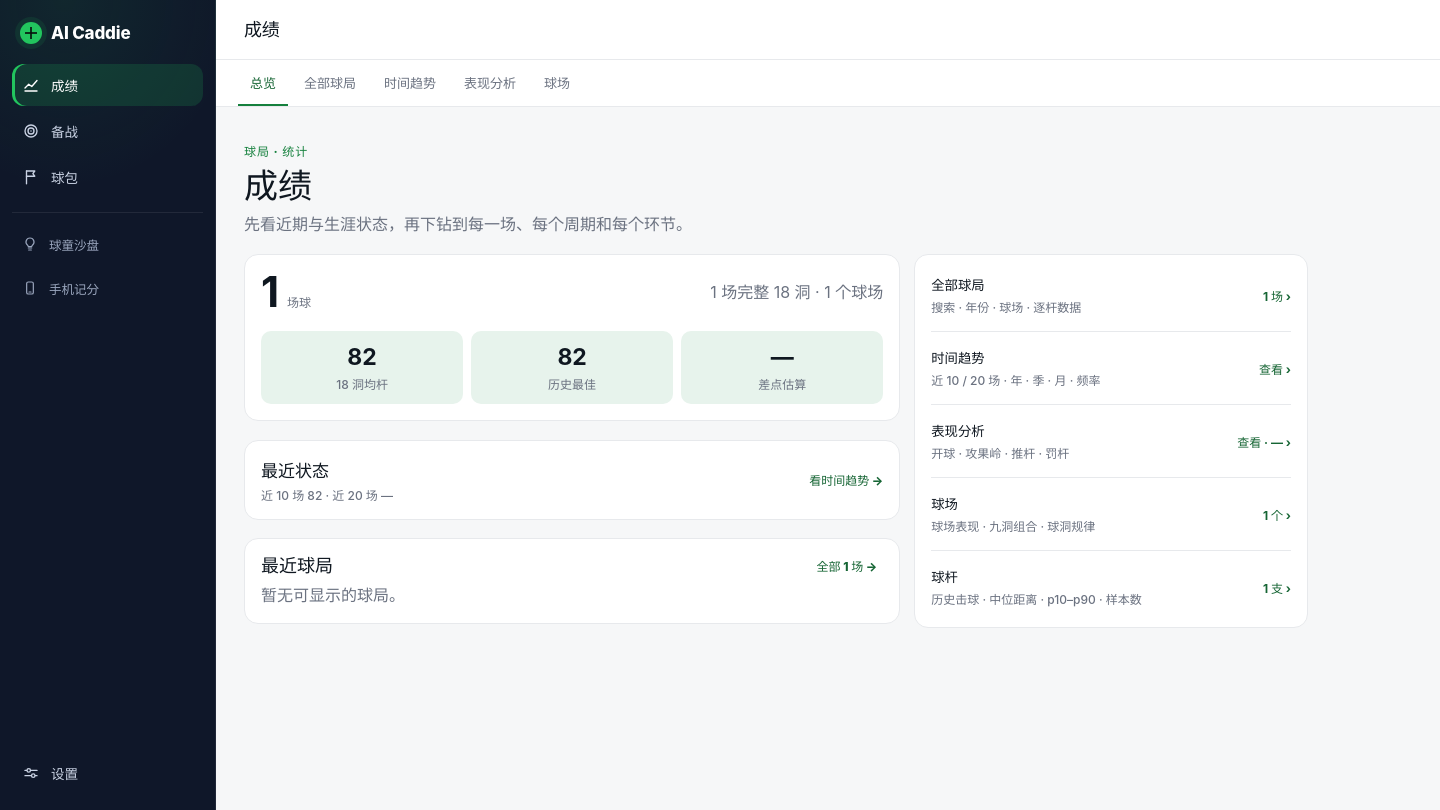
it: App navigation › 去备战 hands the clicked course globalId to the prep page
The image size is (1440, 810).
Expected: the 1st heading "成绩" is shown, 244,20 -> 280,39
Step 1. Click the button "备战" → {"x": 108, "y": 131}, box 12,110 -> 203,152
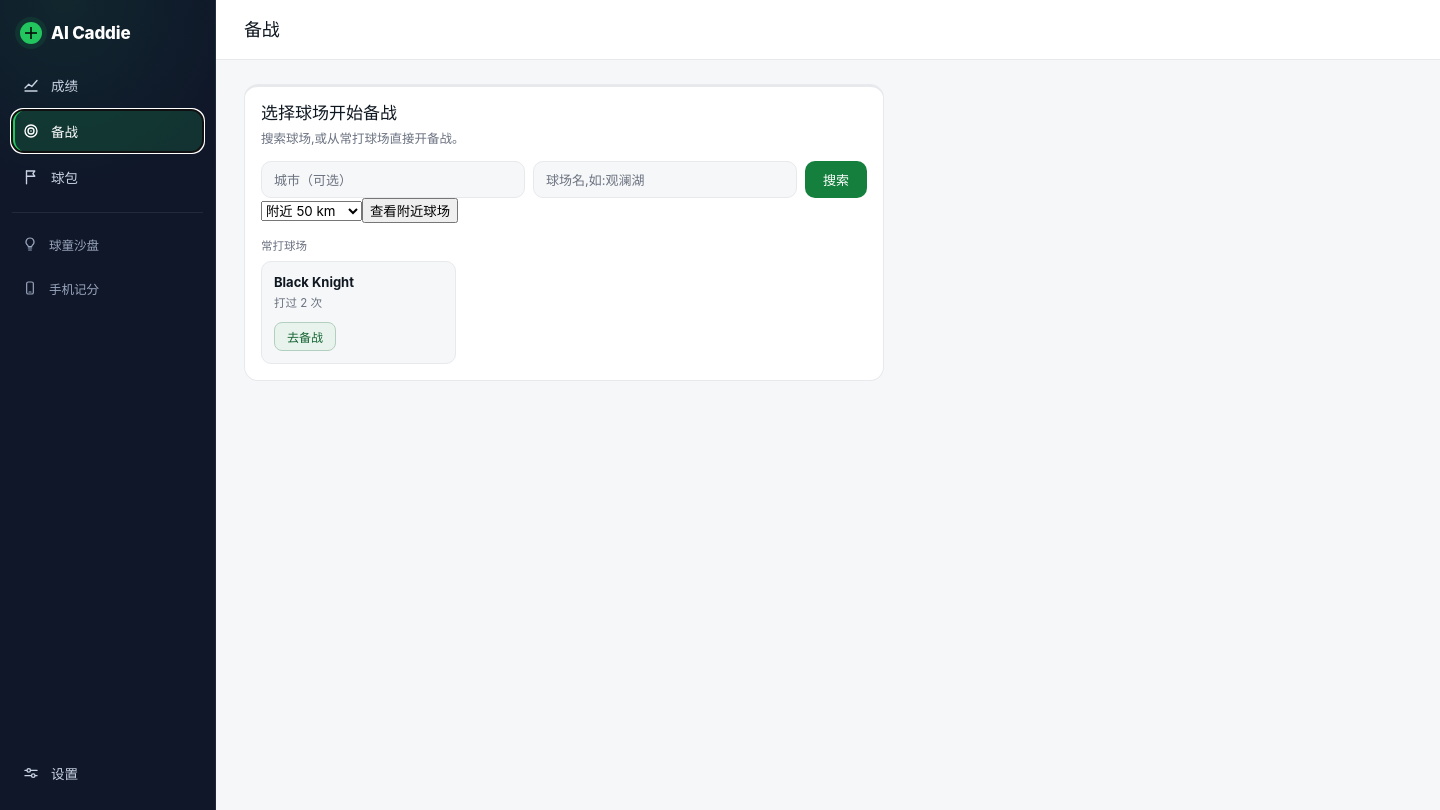
Step 2. Click the button with aria-label "去备战 Black Knight" → {"x": 305, "y": 336}, box 274,322 -> 336,351
(page scrolled)
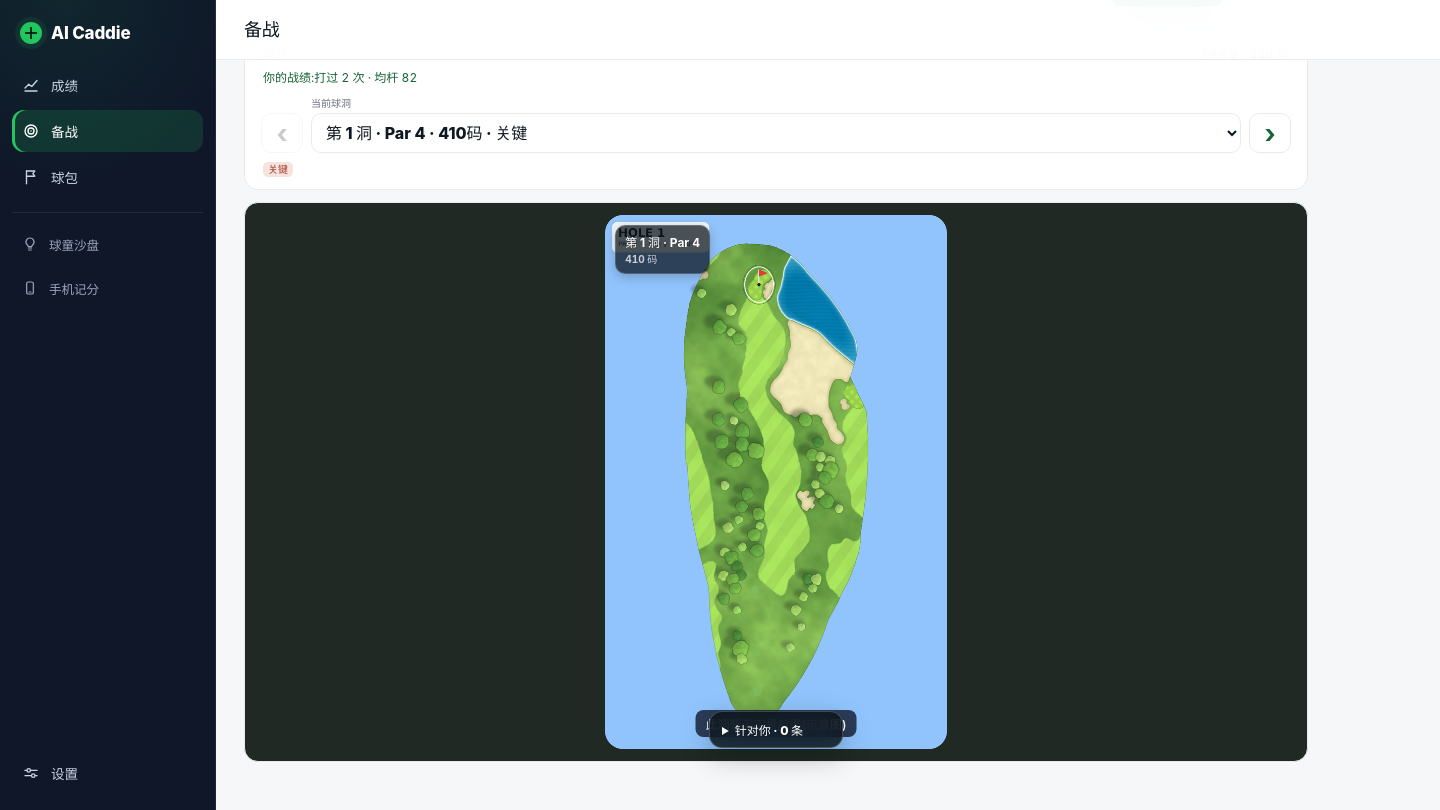
Expected: the text "你的战绩:打过 2 次 · 均杆 82" is shown, 263,70 -> 417,85
Expected: the dropdown named "选择球洞" shows "第 1 洞 · Par 4 · 410码 · 关键", 311,113 -> 1241,153
Expected: the element named "第1洞球道图" is shown, 244,202 -> 1308,762
